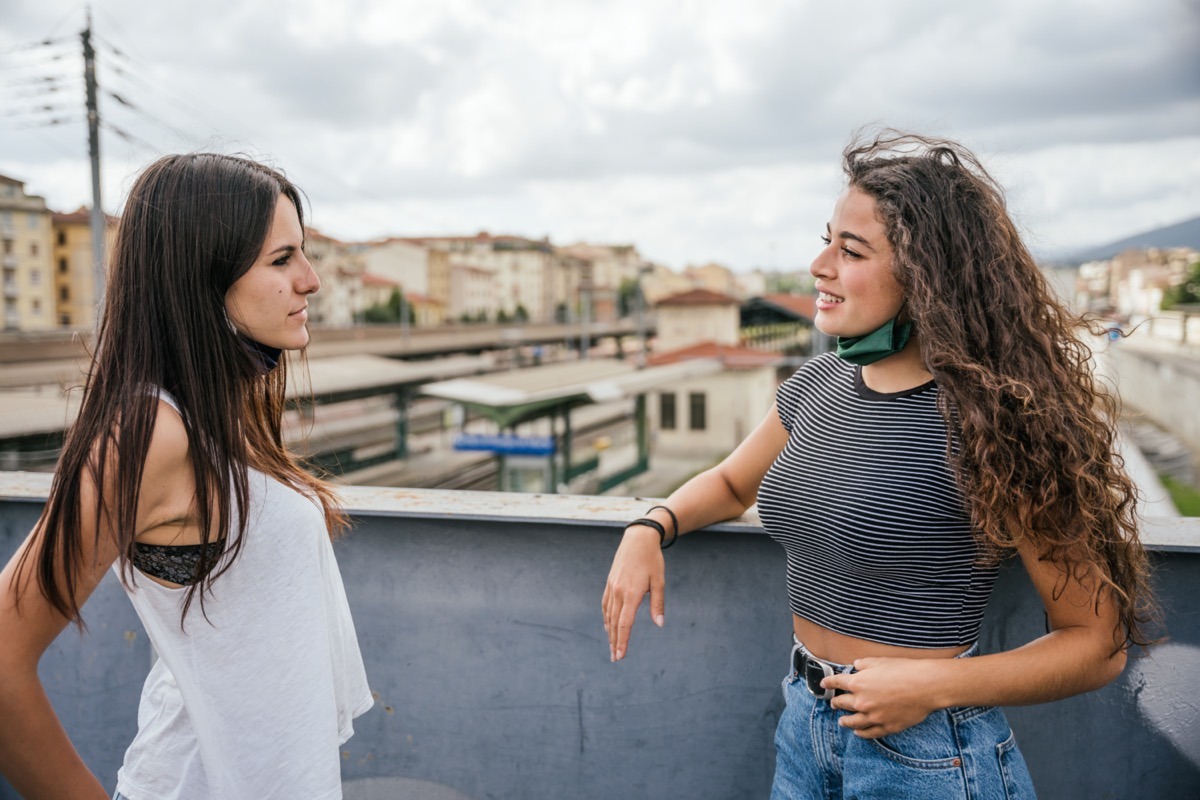with_incorrect_mask: (813, 198, 910, 361), (244, 209, 329, 390)
